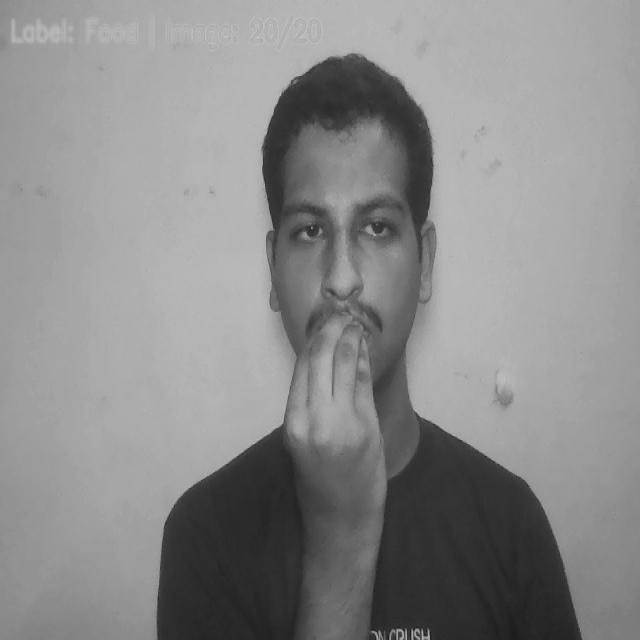Food: (282, 304, 387, 544)
